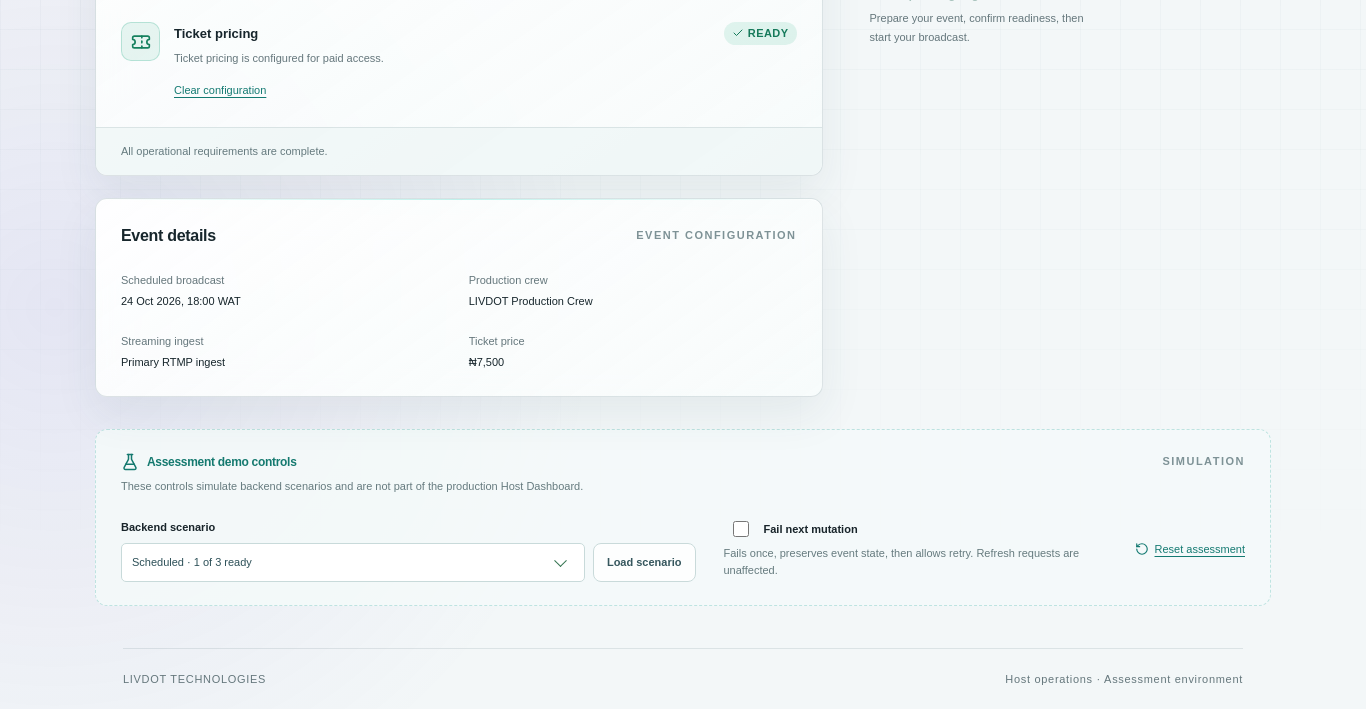
fetch recovery and stale requests › clears a failed transition alert when another scenario is confirmed
The image size is (1366, 709).
(page scrolled)
Click the switch labelled "Fail next mutation".
click(740, 529)  # box [728,521,754,537]
(page scrolled)
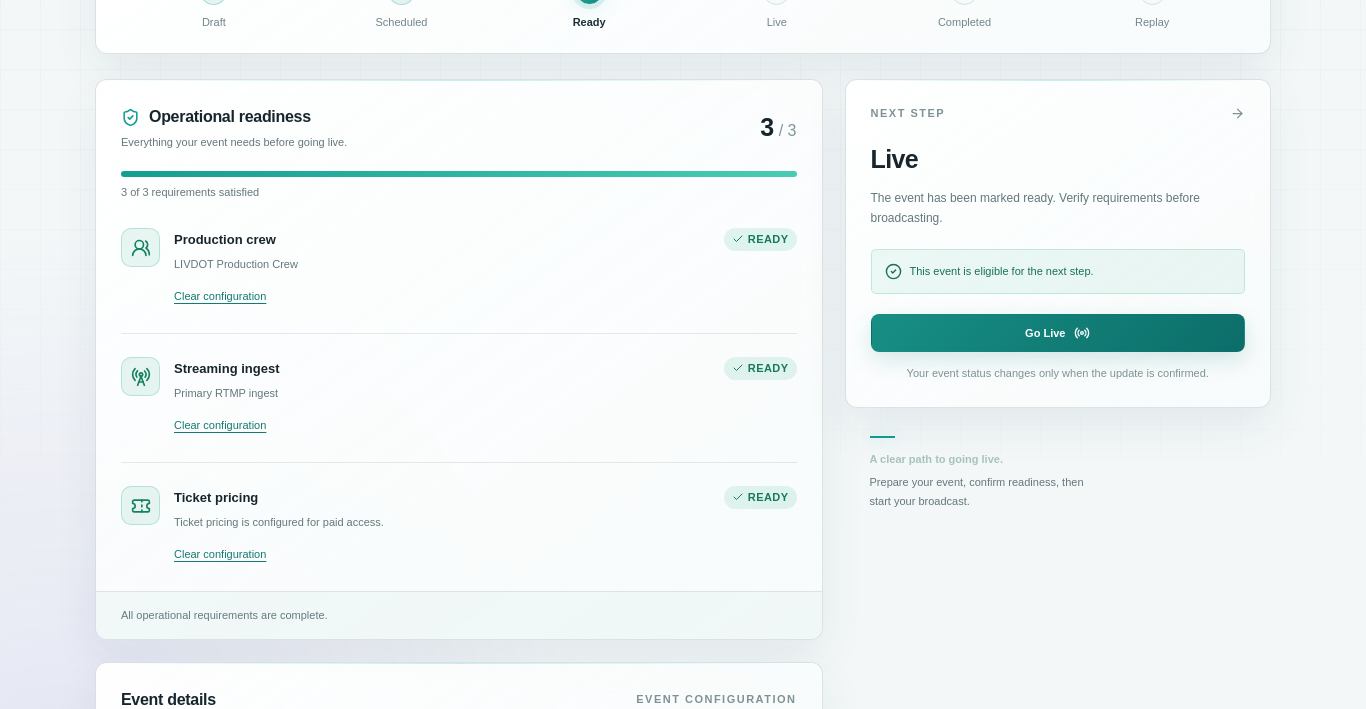
Click the button "Go Live".
click(1058, 333)  # box [870,314,1245,352]
(page scrolled)
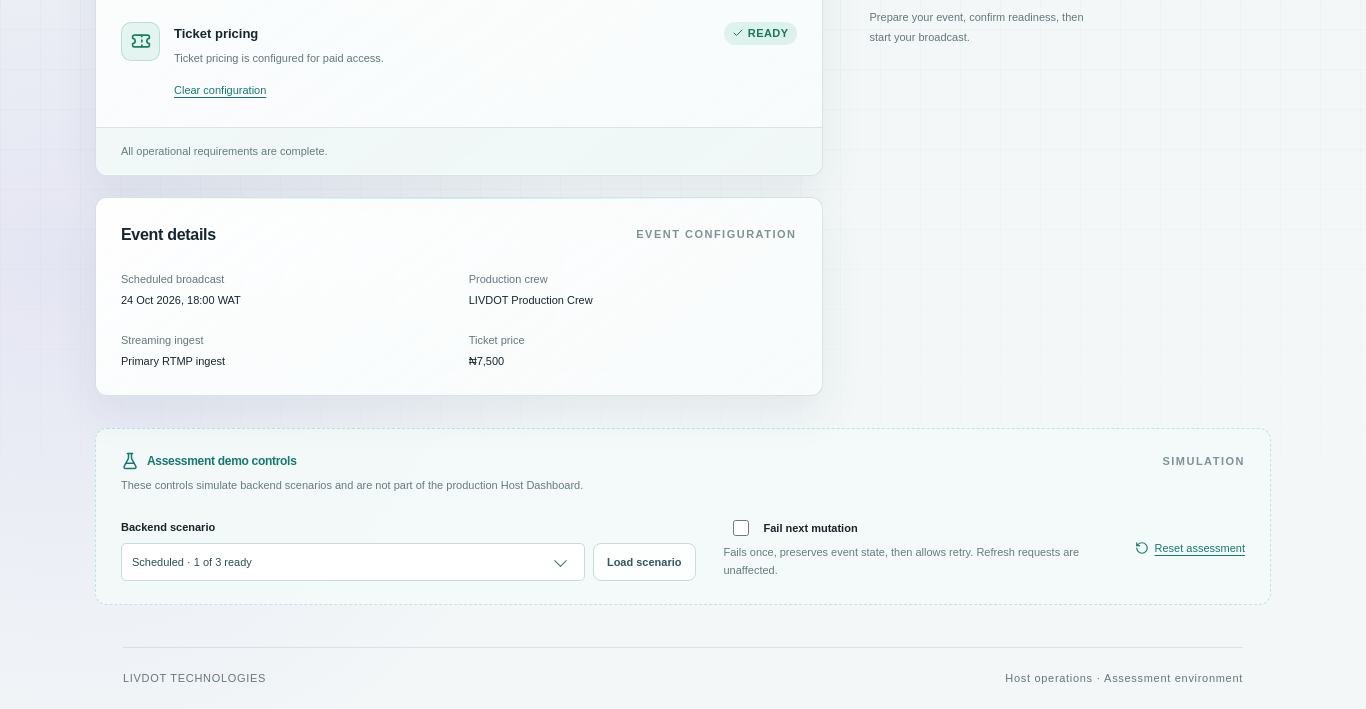
Select "Draft · no schedule" in the dropdown labelled "Backend scenario" at (353, 562), box [121,543,585,581]
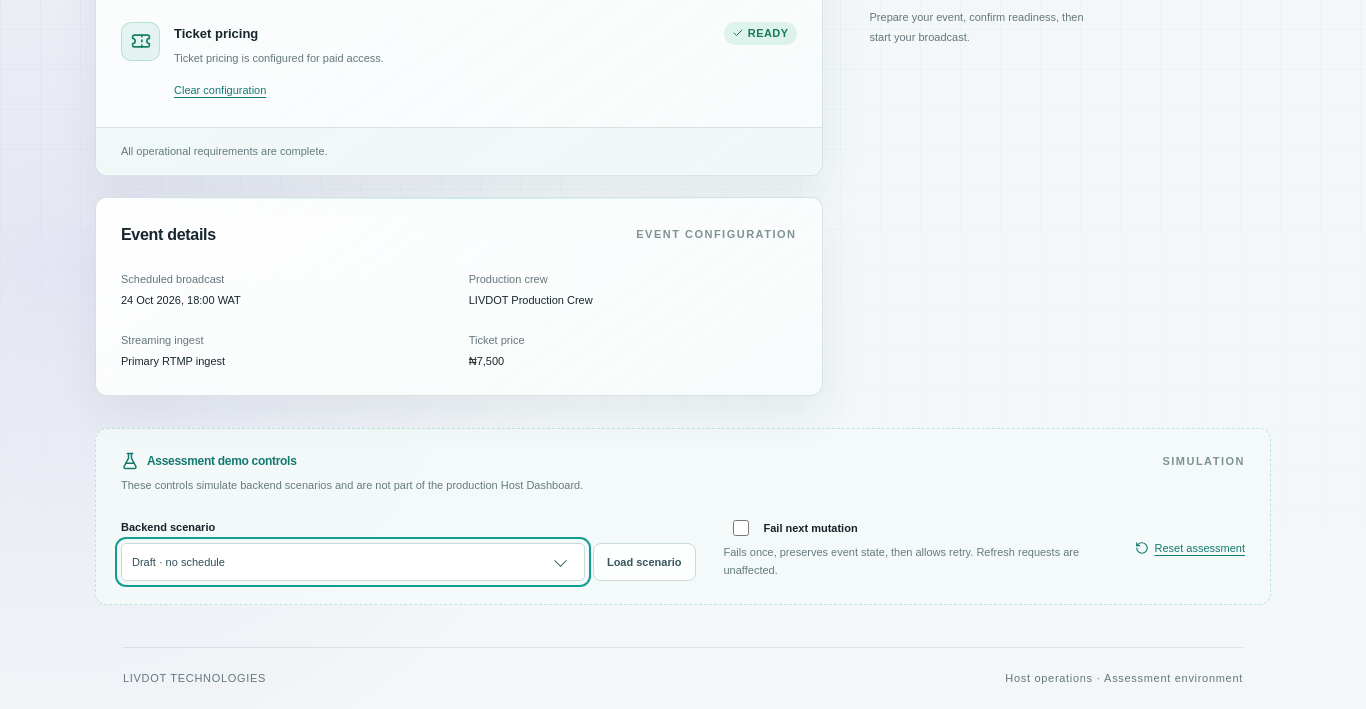
Click the button "Load scenario".
click(644, 562)  # box [593,543,696,581]
(page scrolled)
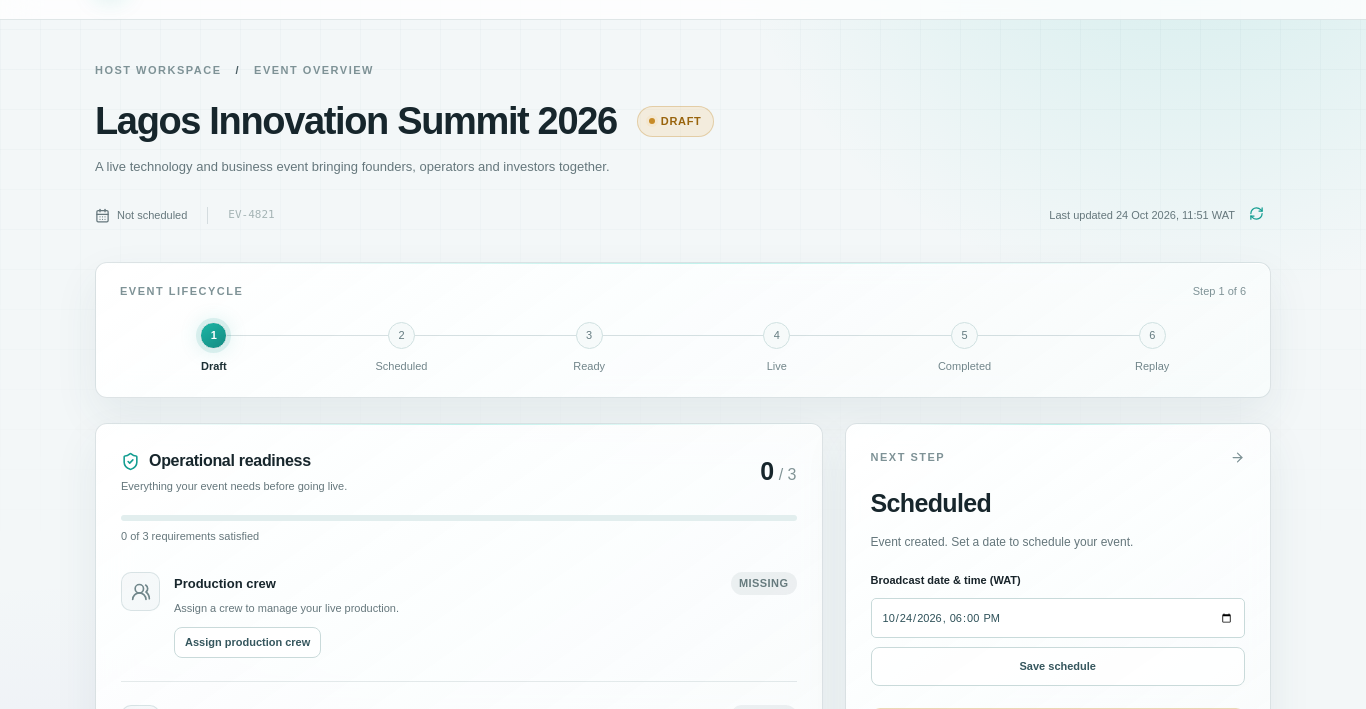
Now the element with test id "event-status" reads "Draft", box [661,115,702,127]
